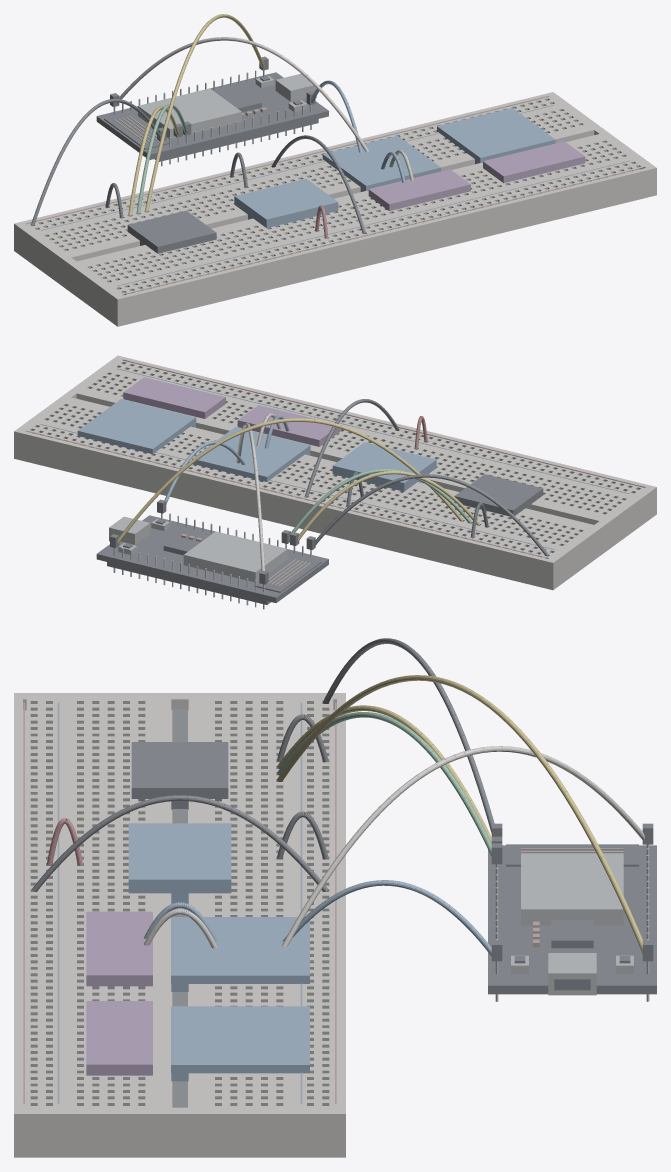
Rendered from step-8.glb.
The picture shows the model from 3 angles, top to bottom: view 1: azimuth 30°, elevation 25°; view 2: azimuth 150°, elevation 25°; view 3: azimuth 270°, elevation 25°; orthographic projection. The views are drawn at different scales.
Visible parts, largest first — view 1: bb1__mesh, teensy1__mesh, as5600_2__mesh, as5600_1__mesh, reg1__mesh, vl53_2__mesh, drv1__mesh, vl53_1__mesh, w_teensy_scl0__mesh, w_teensy_3v3__mesh, w_teensy_gnd__mesh, w_teensy_in2__mesh (+3 smaller); view 2: bb1__mesh, teensy1__mesh, as5600_2__mesh, as5600_1__mesh, reg1__mesh, vl53_2__mesh, drv1__mesh, vl53_1__mesh, w_teensy_3v3__mesh, w_teensy_gnd__mesh, w_teensy_in1__mesh, w_teensy_in2__mesh (+3 smaller); view 3: bb1__mesh, teensy1__mesh, as5600_2__mesh, as5600_1__mesh, reg1__mesh, drv1__mesh, vl53_1__mesh, vl53_2__mesh, w_teensy_3v3__mesh, w_teensy_scl0__mesh, w_bottom_gnd_link__mesh, w_teensy_gnd__mesh (+3 smaller).
Boxes of the visible parts, x1,y1,x2,y2 form: bb1__mesh: [14, 92, 656, 326]; teensy1__mesh: [96, 70, 328, 166]; as5600_2__mesh: [437, 108, 555, 164]; as5600_1__mesh: [322, 136, 441, 191]; reg1__mesh: [234, 178, 338, 229]; vl53_2__mesh: [483, 141, 585, 183]; drv1__mesh: [127, 210, 216, 253]; vl53_1__mesh: [368, 169, 470, 210]; w_teensy_scl0__mesh: [110, 37, 368, 151]; w_teensy_3v3__mesh: [145, 14, 268, 211]; w_teensy_gnd__mesh: [31, 99, 166, 225]; w_teensy_in2__mesh: [136, 104, 191, 213]; bb1__mesh: [14, 355, 656, 590]; teensy1__mesh: [96, 513, 328, 609]; as5600_2__mesh: [77, 399, 196, 455]; as5600_1__mesh: [192, 427, 310, 481]; reg1__mesh: [332, 442, 436, 492]; vl53_2__mesh: [123, 377, 225, 418]; drv1__mesh: [454, 474, 543, 516]; vl53_1__mesh: [237, 405, 340, 446]; w_teensy_3v3__mesh: [110, 418, 463, 548]; w_teensy_gnd__mesh: [306, 474, 548, 556]; w_teensy_in1__mesh: [290, 470, 479, 545]; w_teensy_in2__mesh: [281, 468, 471, 543]; bb1__mesh: [14, 693, 345, 1157]; teensy1__mesh: [488, 844, 656, 1001]; as5600_2__mesh: [171, 1006, 309, 1081]; as5600_1__mesh: [171, 917, 309, 991]; reg1__mesh: [128, 823, 231, 903]; drv1__mesh: [131, 742, 228, 809]; vl53_1__mesh: [86, 911, 152, 989]; vl53_2__mesh: [86, 1001, 152, 1075]; w_teensy_3v3__mesh: [277, 675, 653, 961]; w_teensy_scl0__mesh: [282, 746, 653, 946]; w_bottom_gnd_link__mesh: [32, 795, 327, 891]; w_teensy_gnd__mesh: [323, 638, 502, 836].
Bounding box in the file's own units: 0.165 × 0.0418 × 0.1065.
